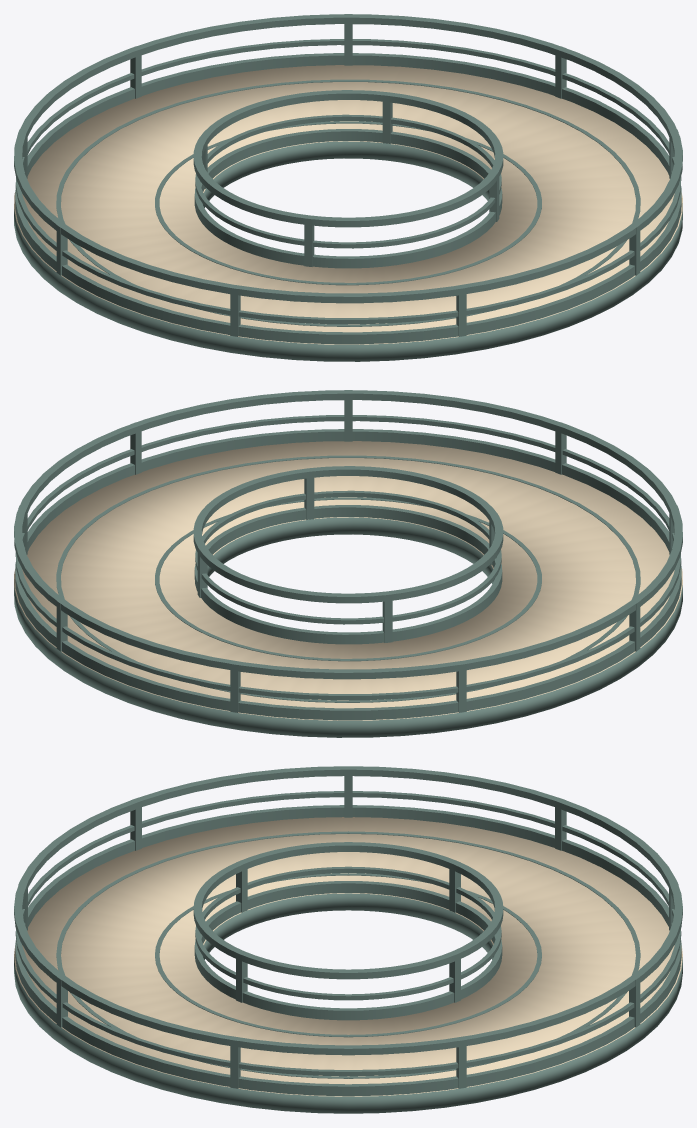
The model's file is Walkway_Roundabout.glb.
3 views of the same model, one above another, from view 1: azimuth 30°, elevation 25°; view 2: azimuth 150°, elevation 25°; view 3: azimuth 270°, elevation 25° (orthographic).
Parts seen in each view (by area): view 1: Walkway_Roundabout; view 2: Walkway_Roundabout; view 3: Walkway_Roundabout.
Boxes of the visible parts, box(x1,y1,x2,y2) form: Walkway_Roundabout: box(14, 14, 682, 361); Walkway_Roundabout: box(14, 390, 682, 737); Walkway_Roundabout: box(14, 766, 682, 1113).
Bounding box in the file's own units: 5.7 × 0.61 × 5.7.
